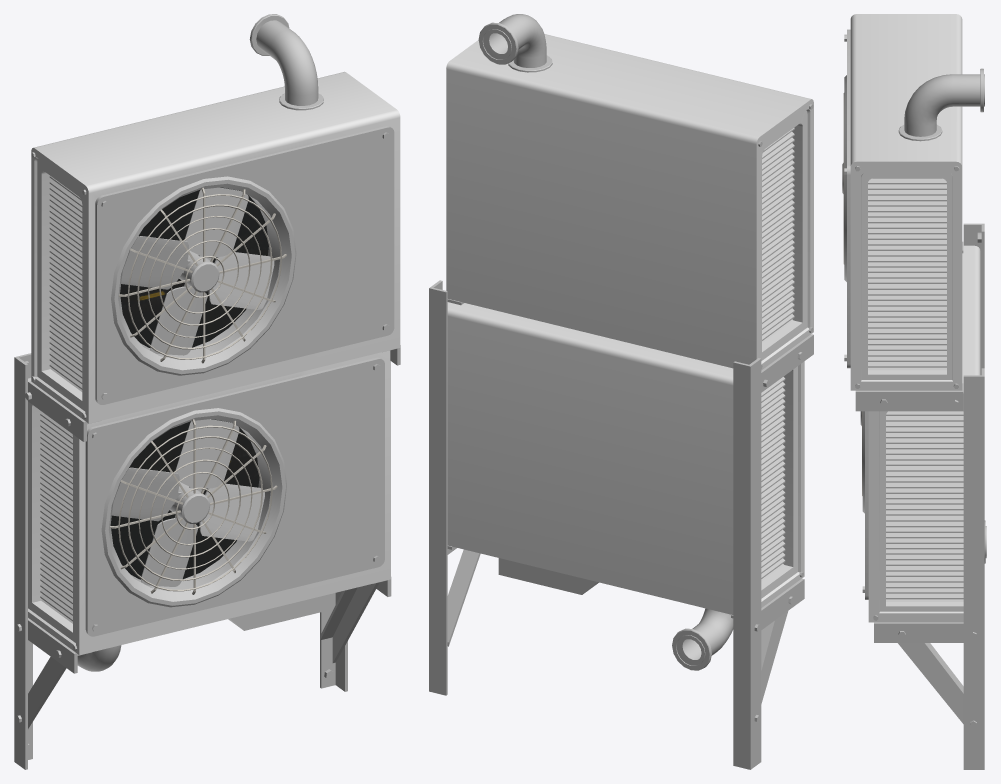
The model's file is KB3D_CBP_ACunit_X.fbx.
The picture shows the model from 3 angles, left to right: view 1: azimuth 30°, elevation 25°; view 2: azimuth 150°, elevation 25°; view 3: azimuth 270°, elevation 25°; orthographic projection. The views are drawn at different scales.
Parts seen in each view (by area): view 1: KB3D_CBP_ACunit_X_Main; view 2: KB3D_CBP_ACunit_X_Main; view 3: KB3D_CBP_ACunit_X_Main.
Part boxes in pixels (left/top/right/bottom): KB3D_CBP_ACunit_X_Main: left=14, top=14, right=400, bottom=769; KB3D_CBP_ACunit_X_Main: left=429, top=14, right=813, bottom=769; KB3D_CBP_ACunit_X_Main: left=842, top=14, right=986, bottom=769.
Bounding box in the file's own units: 116 × 232 × 45.5.
